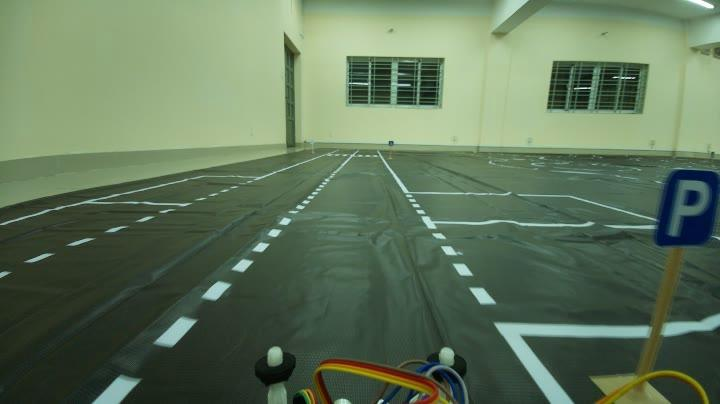parking: (654, 166, 715, 250)
